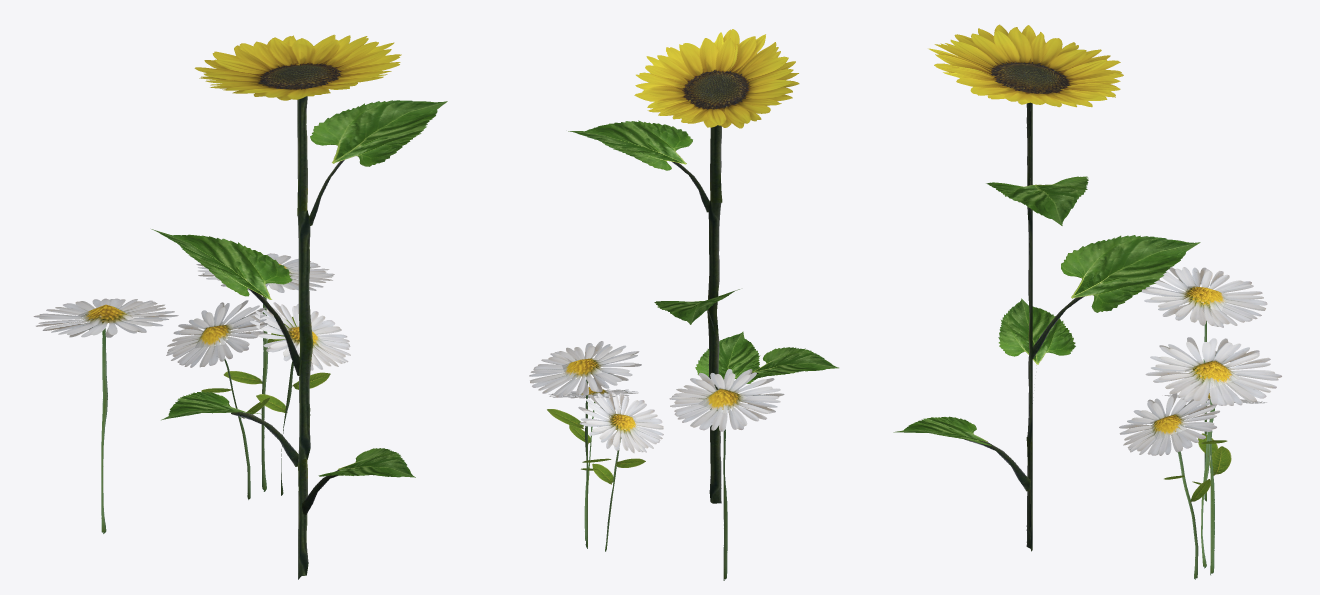
Rendered from sun flower.fbx.
The picture shows the model from 3 angles, left to right: view 1: azimuth 30°, elevation 25°; view 2: azimuth 150°, elevation 25°; view 3: azimuth 270°, elevation 25°; orthographic projection. The views are drawn at different scales.
Visible parts, largest first — view 1: sun_flower; view 2: sun_flower; view 3: sun_flower.
Part boxes in pixels (bbox=[...]): sun_flower: bbox=[33, 34, 447, 579]; sun_flower: bbox=[529, 29, 838, 580]; sun_flower: bbox=[893, 24, 1281, 579].
Bounding box in the file's own units: 157 × 230 × 178.
1 material, 1 textured.
